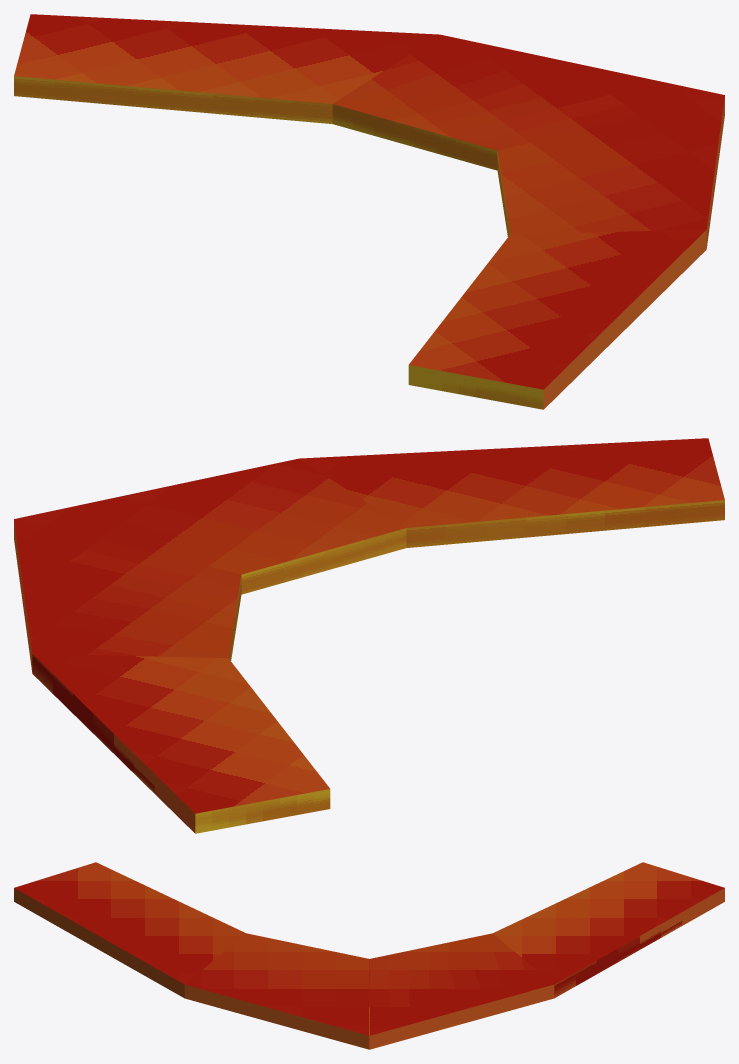
3 views of the same model, one above another, from view 1: azimuth 30°, elevation 25°; view 2: azimuth 150°, elevation 25°; view 3: azimuth 270°, elevation 25° (orthographic). The views are drawn at different scales.
Parts seen in each view (by area): view 1: cube; view 2: cube; view 3: cube.
Part boxes in pixels (x1,y1,x2,y2): cube: [14, 14, 724, 409]; cube: [14, 438, 724, 833]; cube: [14, 862, 724, 1049].
Size of the model in its own units: 0.1673 by 0.00625 by 0.2895.
Materials: 1 (1 with a texture image).
